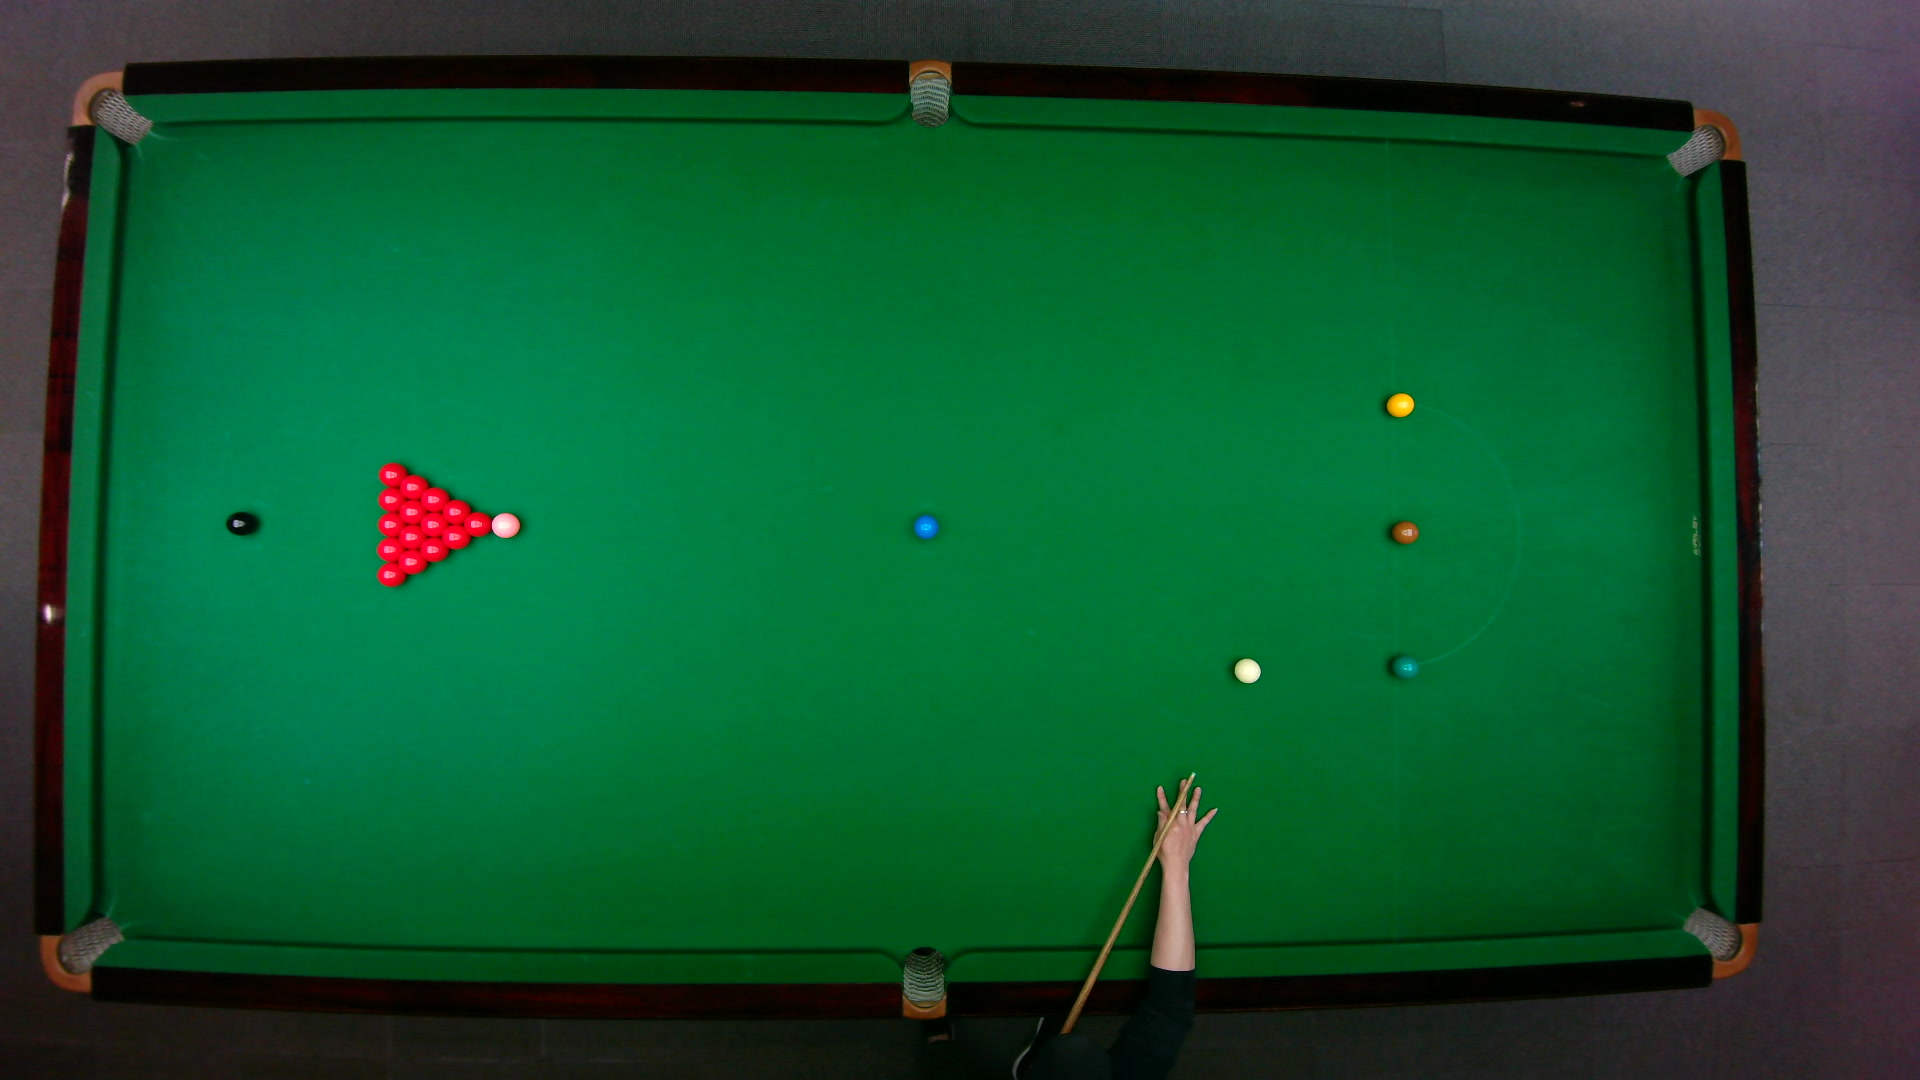bag: (38, 914, 125, 993), (69, 69, 152, 145), (1677, 905, 1756, 978), (1663, 107, 1742, 177), (901, 944, 945, 1021), (909, 57, 949, 128)
black: (223, 509, 257, 535)
blue: (911, 512, 938, 541)
brown: (1389, 520, 1418, 545)
cue: (1059, 767, 1212, 1031)
green: (1389, 651, 1419, 679)
pink: (489, 510, 521, 539)
red: (463, 509, 495, 539), (376, 462, 411, 488), (375, 562, 407, 589), (397, 549, 429, 576), (419, 487, 452, 513), (375, 512, 407, 538), (440, 524, 473, 550), (442, 497, 473, 524), (419, 538, 450, 564), (375, 538, 407, 562), (376, 488, 407, 512), (400, 475, 429, 500), (400, 525, 429, 550), (421, 513, 448, 538), (400, 500, 429, 524)
white: (1232, 655, 1261, 683)
yellow: (1385, 392, 1415, 417)
zone: (1390, 400, 1519, 666)
